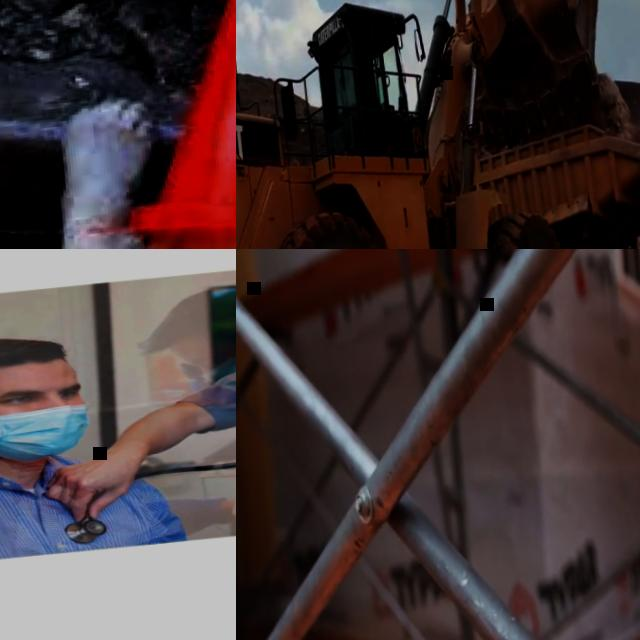Mask: (0, 398, 93, 466), (188, 350, 236, 395)
NO-Hardhat: (134, 281, 236, 347), (0, 327, 76, 397), (188, 431, 236, 460)
Person: (42, 249, 236, 553), (0, 317, 175, 583), (135, 274, 236, 387)
Safety Cone: (112, 0, 236, 249)
vehicle: (236, 0, 640, 249), (461, 101, 640, 249)
